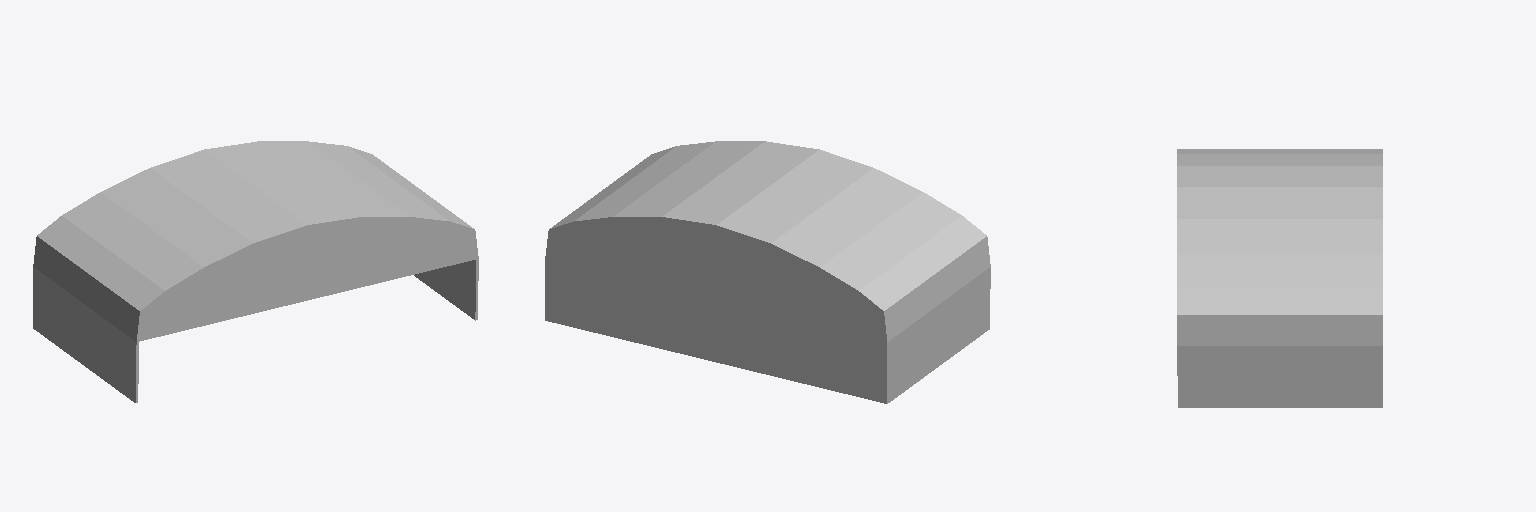
File: hangar.obj
3 renders of one model, left to right at view 1: azimuth 30°, elevation 25°; view 2: azimuth 150°, elevation 25°; view 3: azimuth 270°, elevation 25°, orthographic.
Parts seen in each view (by area): view 1: hangar:polySurface3; view 2: hangar:polySurface3; view 3: hangar:polySurface3.
Boxes of the visible parts, box(x1,y1,x2,y2) form: hangar:polySurface3: box(33, 141, 478, 402); hangar:polySurface3: box(545, 141, 990, 403); hangar:polySurface3: box(1177, 149, 1382, 407).
Size of the model in its own units: 29.12 by 11.16 by 15.23.